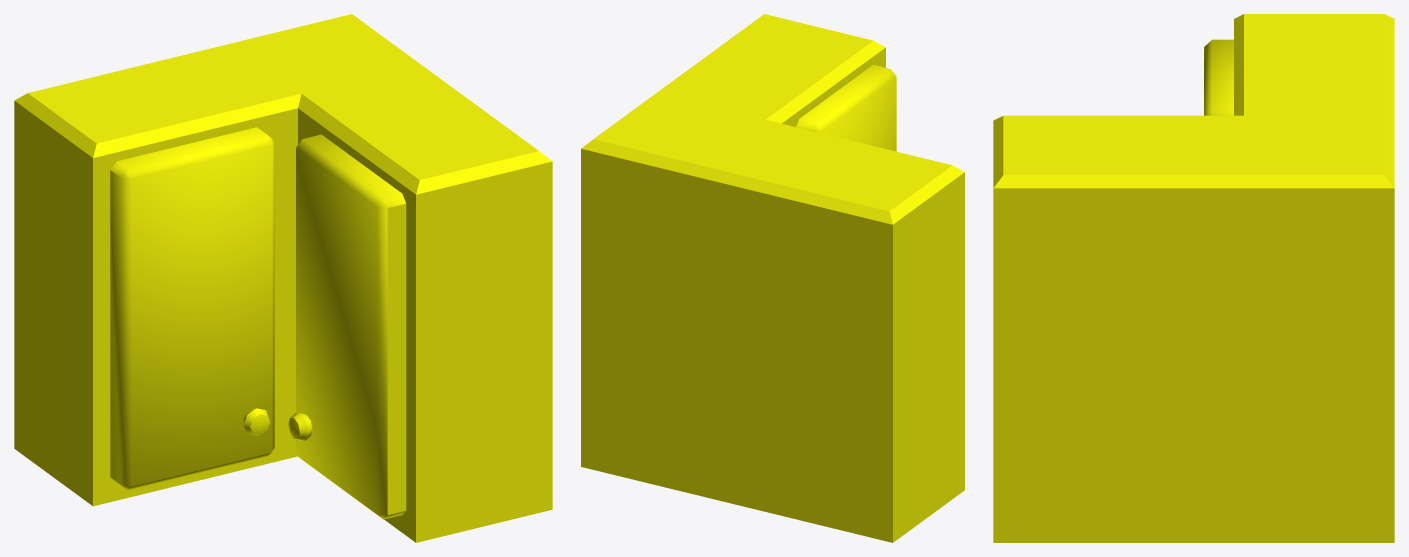
The model's file is kitchencabinet_corner.gltf.
3 renders of one model, left to right at view 1: azimuth 30°, elevation 25°; view 2: azimuth 150°, elevation 25°; view 3: azimuth 270°, elevation 25°, orthographic. The views are drawn at different scales.
Visible parts, largest first — view 1: kitchencabinet_corner; view 2: kitchencabinet_corner; view 3: kitchencabinet_corner.
Boxes of the visible parts, x1,y1,x2,y2 form: kitchencabinet_corner: (14,14,552,542); kitchencabinet_corner: (581,14,964,542); kitchencabinet_corner: (993,14,1394,542).
Bounding box in the file's own units: 2 × 2 × 2.
Materials: 1 (1 with a texture image).
